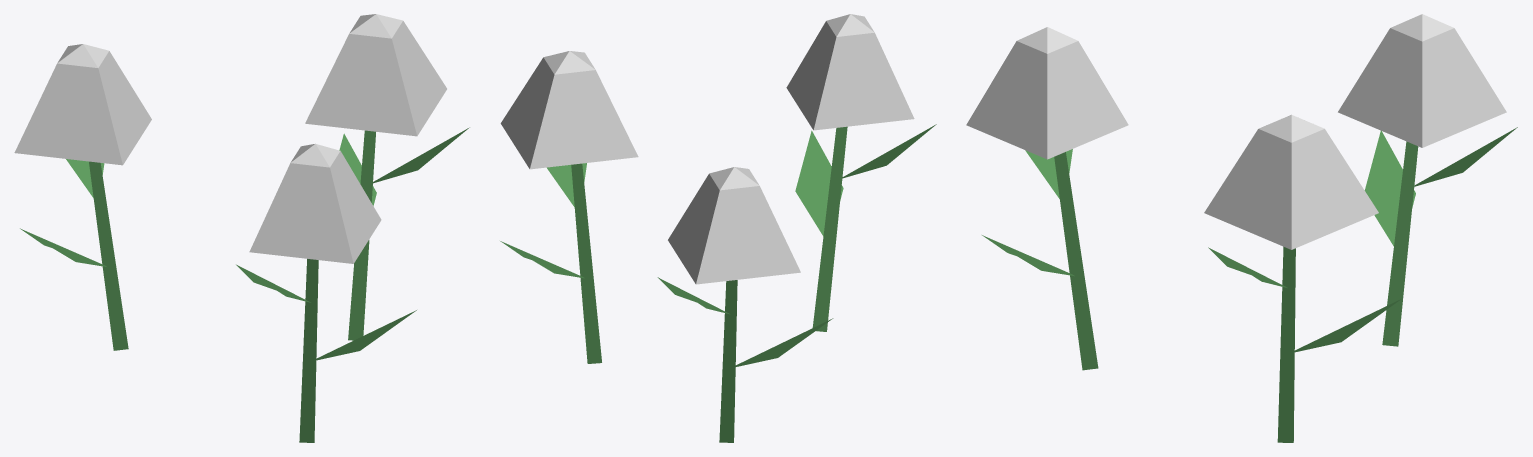
Rendered from flowers_spring_02.glb.
The picture shows the model from 3 angles, left to right: view 1: azimuth 30°, elevation 25°; view 2: azimuth 150°, elevation 25°; view 3: azimuth 270°, elevation 25°; orthographic projection. The views are drawn at different scales.
Parts seen in each view (by area): view 1: Flowers_spring_02; view 2: Flowers_spring_02; view 3: Flowers_spring_02.
Boxes of the visible parts, x1=… form: Flowers_spring_02: x1=14, y1=14, x2=469, y2=442; Flowers_spring_02: x1=500, y1=14, x2=936, y2=442; Flowers_spring_02: x1=966, y1=14, x2=1517, y2=442.
Size of the model in its own units: 0.4598 by 0.3618 by 0.535.
